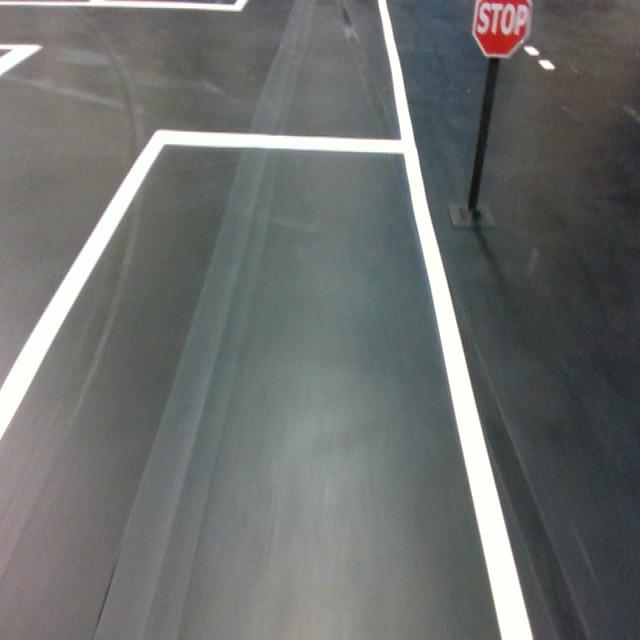stop-sign: (470, 0, 531, 59)
